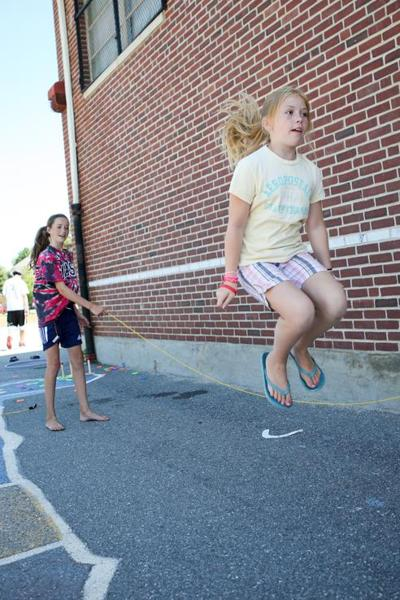person: (217, 87, 346, 408)
